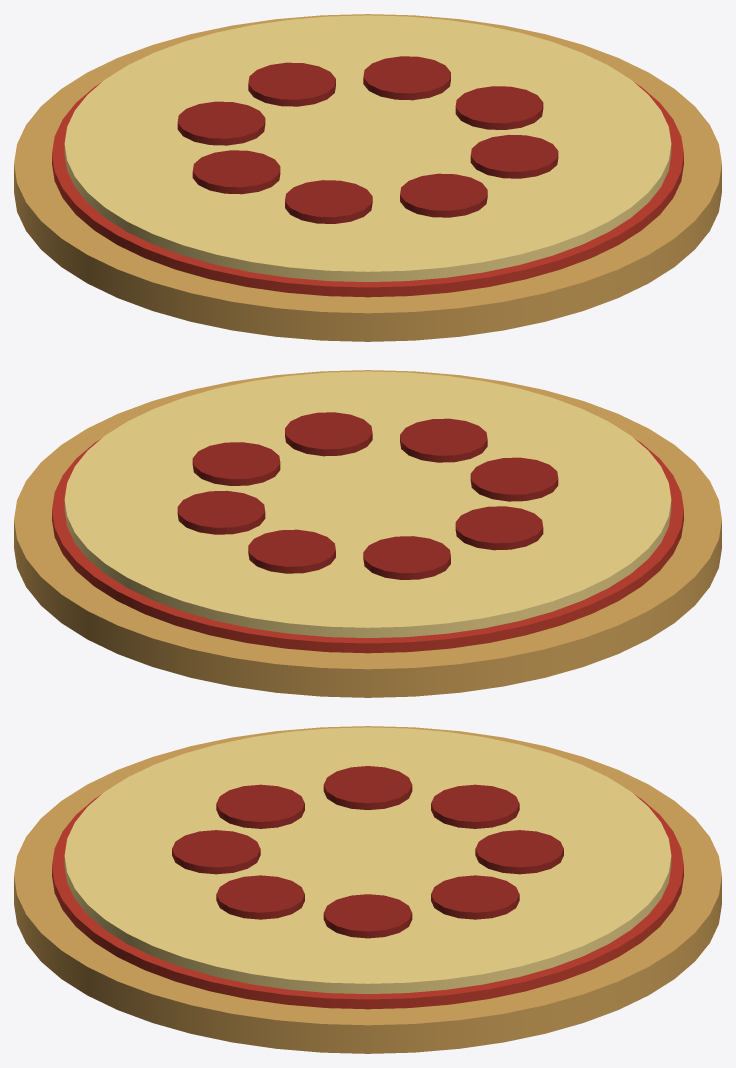
Rendered from pizza.glb.
3 views of the same model, one above another, from view 1: azimuth 30°, elevation 25°; view 2: azimuth 150°, elevation 25°; view 3: azimuth 270°, elevation 25° (orthographic).
Parts seen in each view (by area): view 1: cheese, crust, pizza, sauce; view 2: cheese, crust, pizza, sauce; view 3: cheese, crust, pizza, sauce.
Part boxes in pixels (bbox=[...]): cheese: bbox=[64, 15, 671, 281]; crust: bbox=[14, 14, 721, 341]; pizza: bbox=[177, 56, 558, 223]; sauce: bbox=[52, 83, 683, 297]; cheese: bbox=[64, 371, 671, 637]; crust: bbox=[14, 370, 721, 697]; pizza: bbox=[177, 412, 558, 579]; sauce: bbox=[52, 439, 683, 653]; cheese: bbox=[64, 727, 671, 993]; crust: bbox=[14, 726, 721, 1053]; pizza: bbox=[172, 766, 563, 938]; sauce: bbox=[52, 795, 683, 1009].
Size of the model in its own units: 0.56 by 0.0485 by 0.56.
